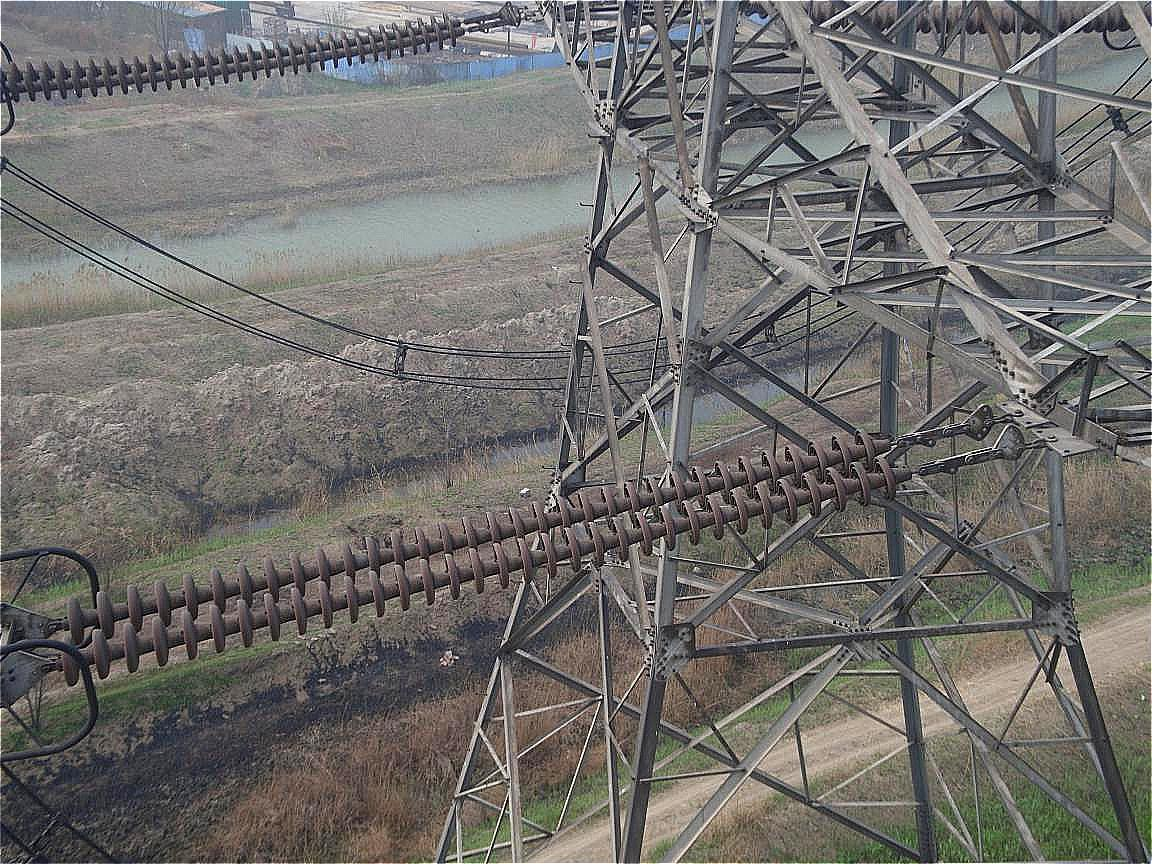insultor1: (52, 421, 906, 702), (1, 8, 472, 110)
